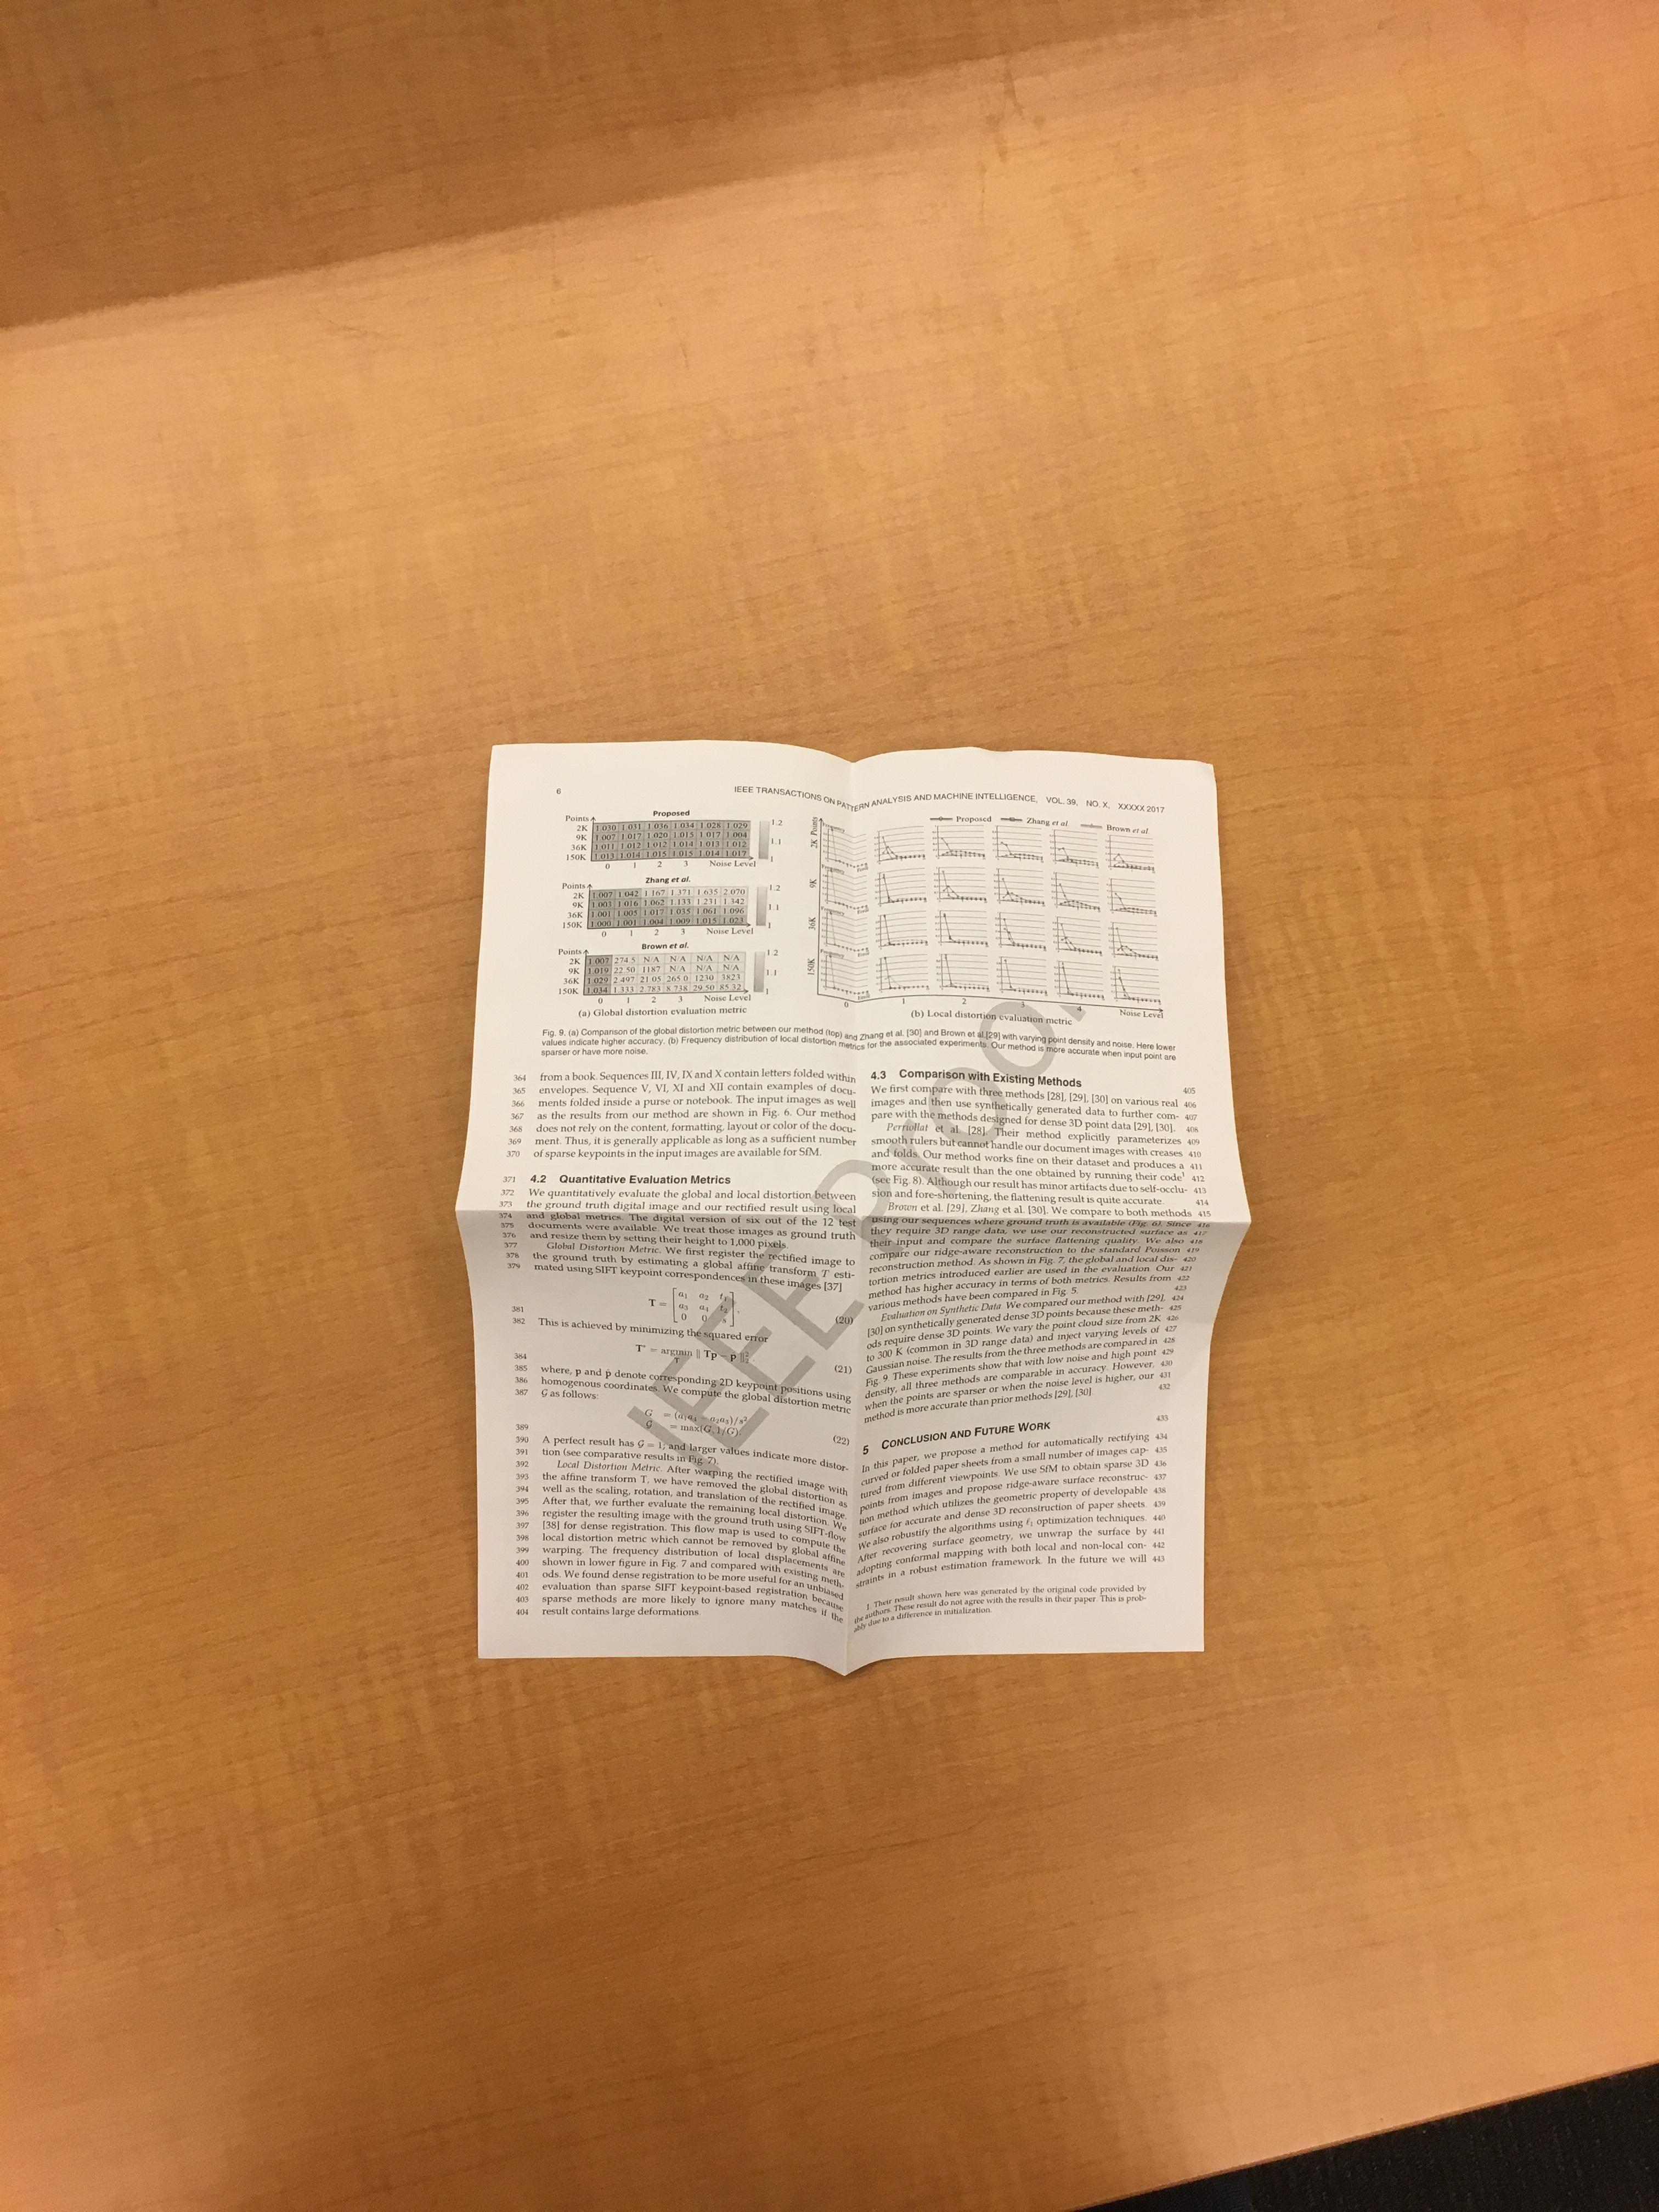paper: (242, 540, 1466, 1878)
